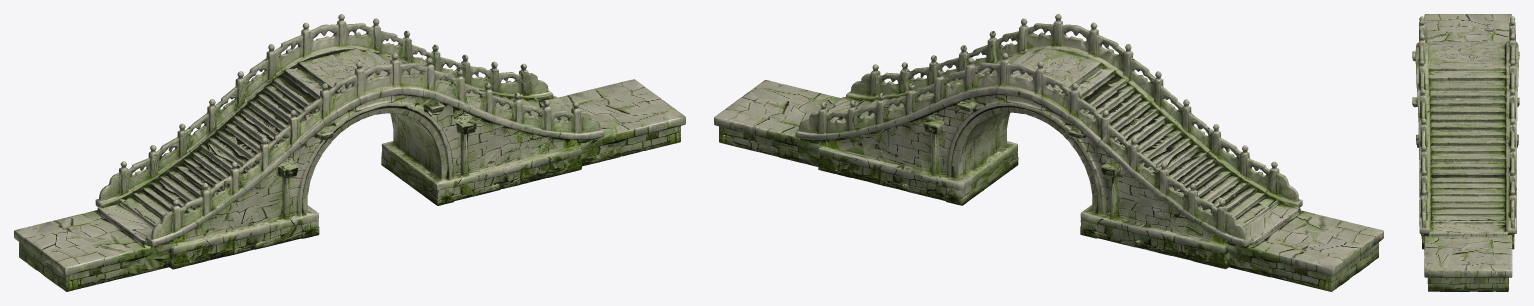
File: Ancient_Stone_Arch_Br.glb
3 renders of one model, left to right at view 1: azimuth 30°, elevation 25°; view 2: azimuth 150°, elevation 25°; view 3: azimuth 270°, elevation 25°, orthographic. The views are drawn at different scales.
Visible parts, largest first — view 1: Ancient_Stone_Arch_Br; view 2: Ancient_Stone_Arch_Br; view 3: Ancient_Stone_Arch_Br.
Part boxes in pixels (<box>): Ancient_Stone_Arch_Br: <box>14,14,685,291</box>; Ancient_Stone_Arch_Br: <box>714,14,1383,291</box>; Ancient_Stone_Arch_Br: <box>1412,14,1519,291</box>.
Size of the model in its own units: 1.9 by 0.4748 by 0.3364.
Materials: 1 (1 with a texture image).
